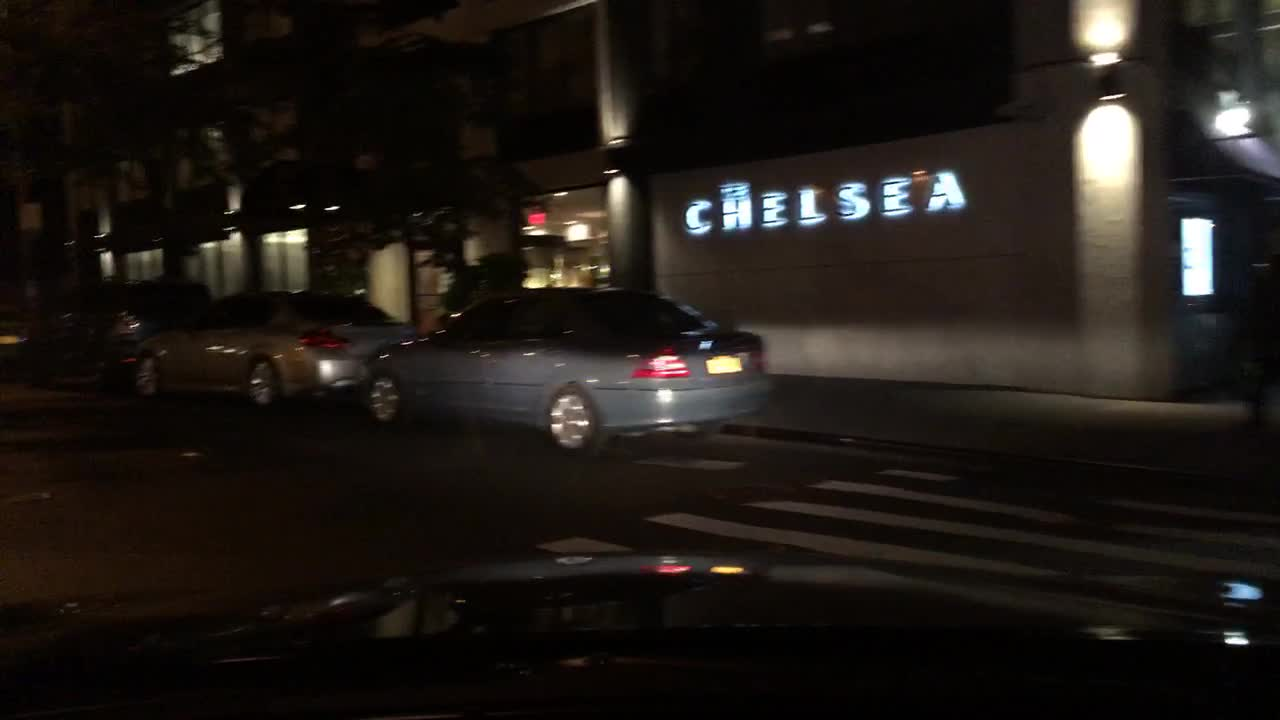car: (358, 284, 774, 462), (128, 287, 420, 415), (31, 275, 213, 387), (0, 291, 37, 376)
